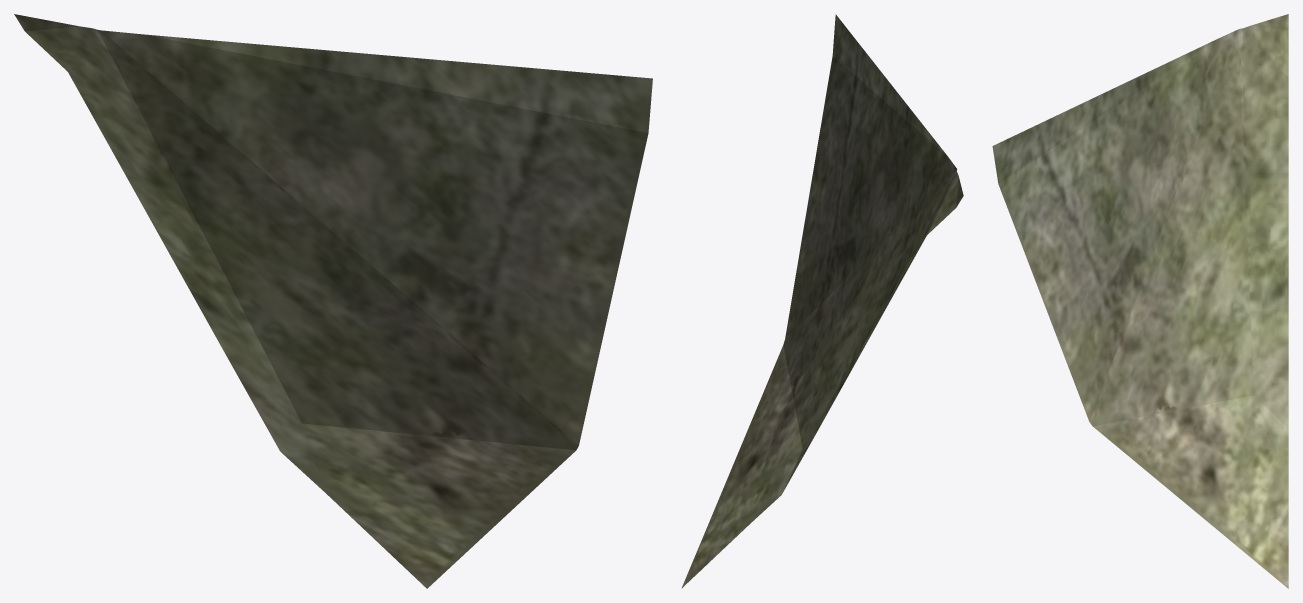
3 renders of one model, left to right at view 1: azimuth 30°, elevation 25°; view 2: azimuth 150°, elevation 25°; view 3: azimuth 270°, elevation 25°, orthographic. The views are drawn at different scales.
Bounding box in the file's own units: 2.96 × 4.62 × 2.8.
Materials: 1 (1 with a texture image).
